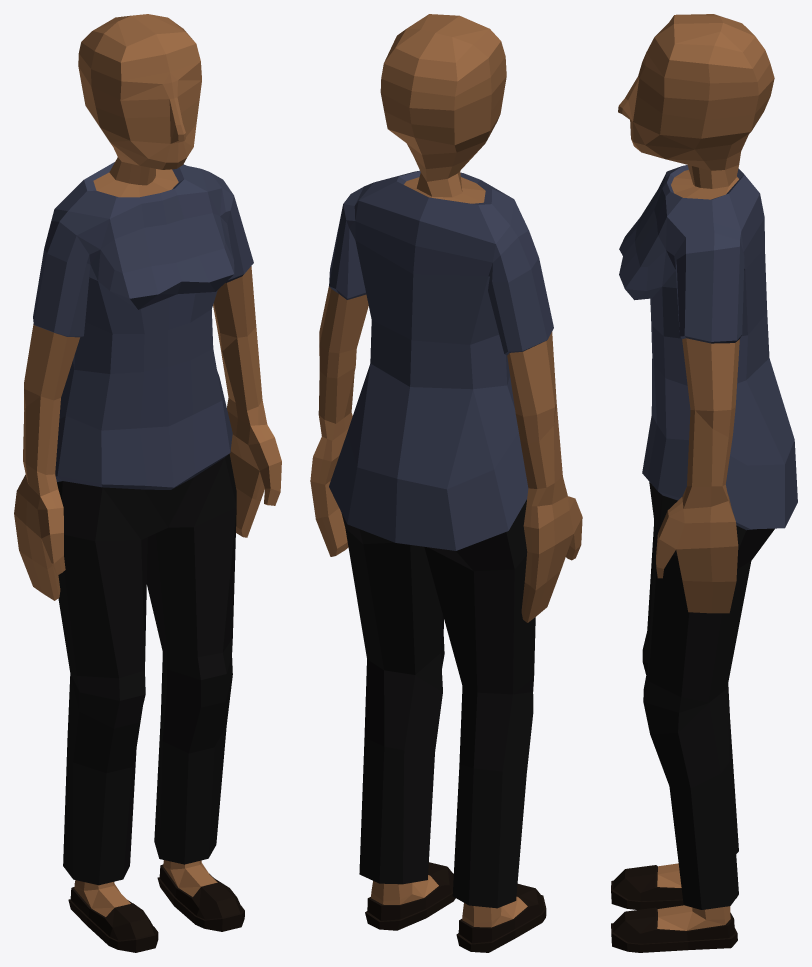
Rendered from club_person_female.obj.
3 renders of one model, left to right at view 1: azimuth 30°, elevation 25°; view 2: azimuth 150°, elevation 25°; view 3: azimuth 270°, elevation 25°, orthographic. The views are drawn at different scales.
Parts seen in each view (by area): view 1: Female_Standing_Cylinder.007; view 2: Female_Standing_Cylinder.007; view 3: Female_Standing_Cylinder.007.
Part boxes in pixels (bbox=[...]): Female_Standing_Cylinder.007: bbox=[14, 14, 281, 952]; Female_Standing_Cylinder.007: bbox=[310, 14, 582, 952]; Female_Standing_Cylinder.007: bbox=[611, 14, 797, 952].
Bounding box in the file's own units: 1.01 × 3.7 × 0.6994.
